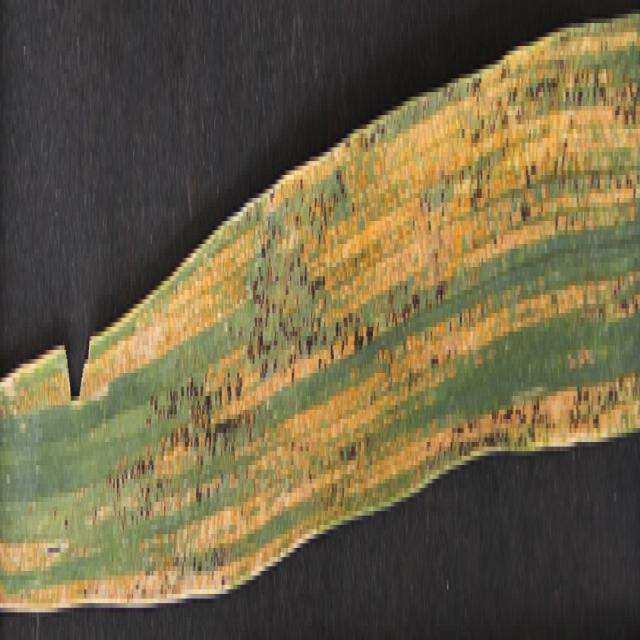leaf rust: (1, 42, 640, 612)
